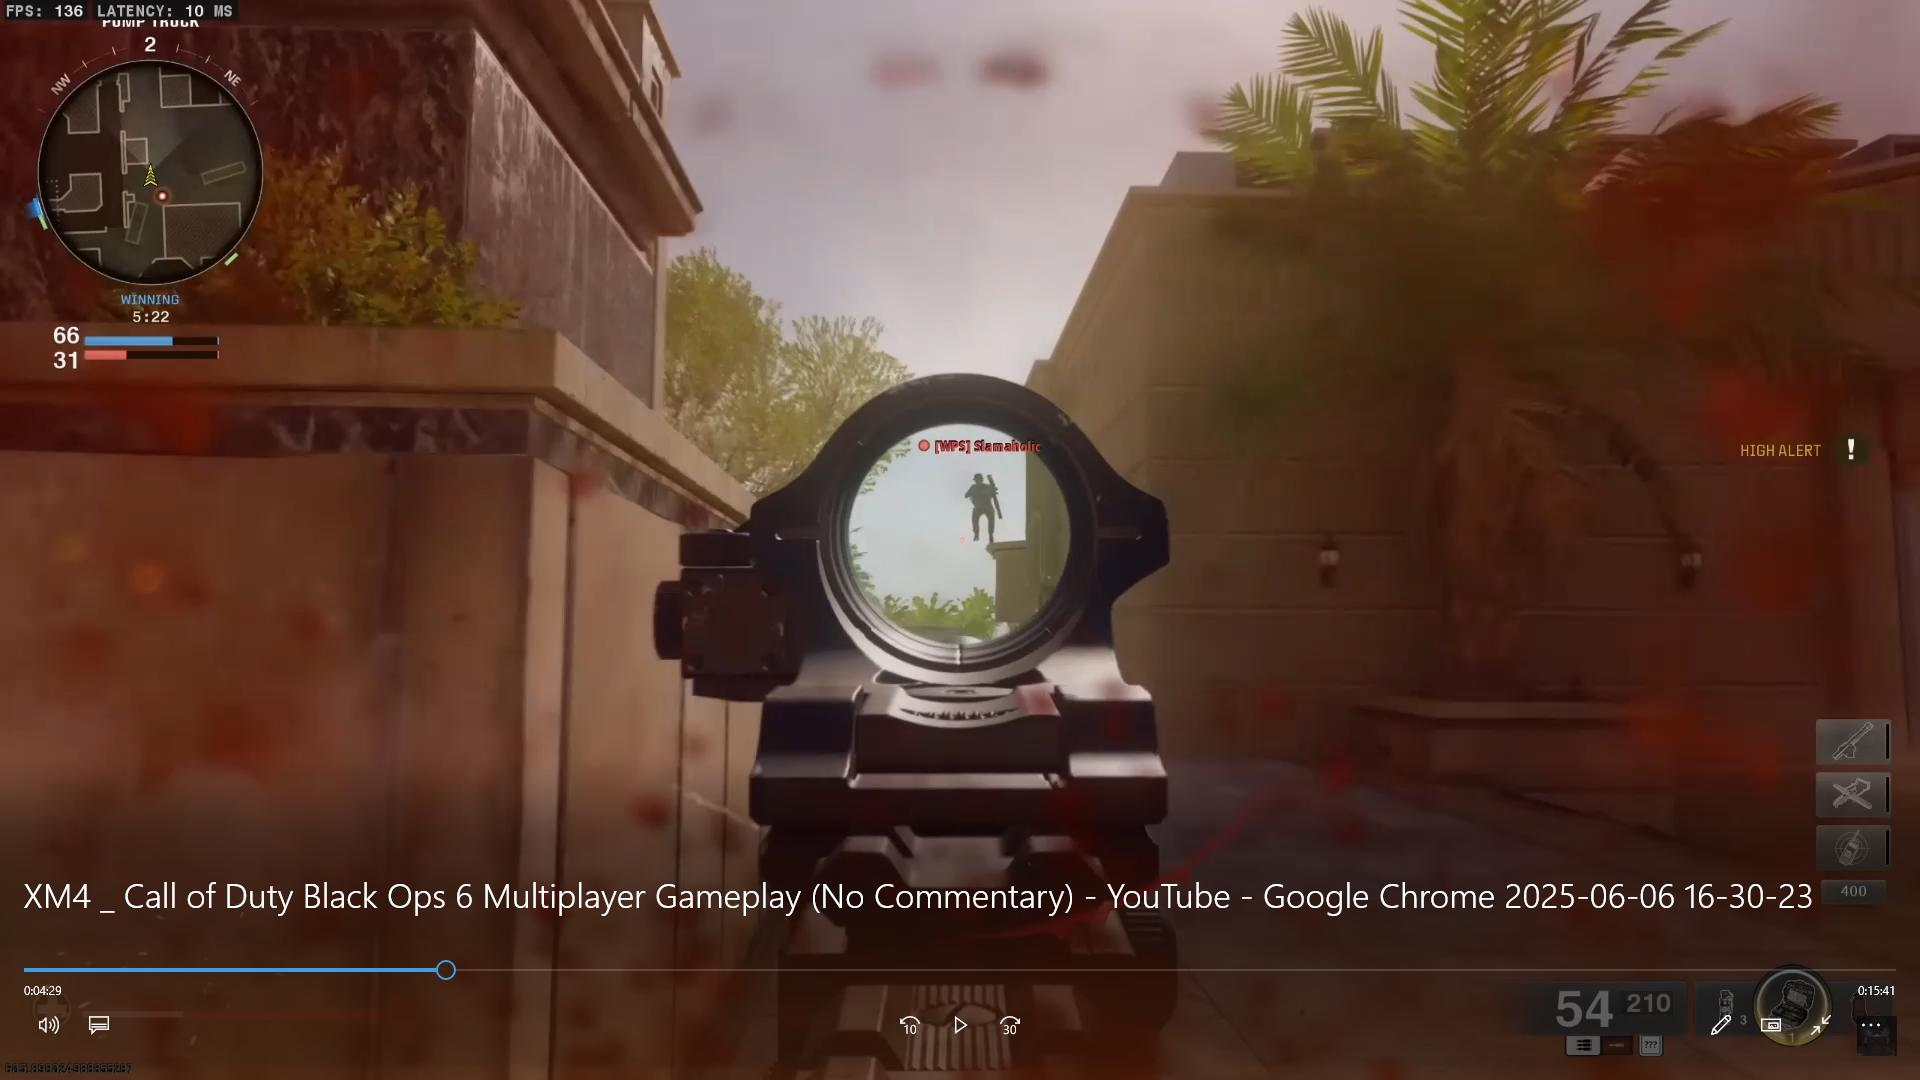Enemy: (955, 465, 1006, 546)
